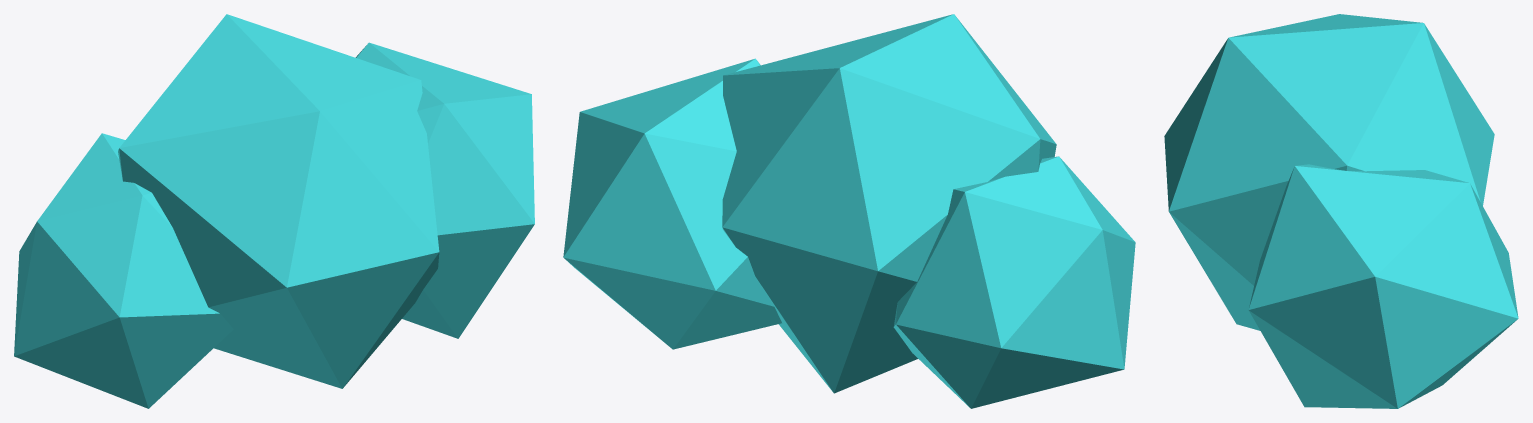
Rendered from bush.glb.
The picture shows the model from 3 angles, left to right: view 1: azimuth 30°, elevation 25°; view 2: azimuth 150°, elevation 25°; view 3: azimuth 270°, elevation 25°; orthographic projection. The views are drawn at different scales.
Visible parts, largest first — view 1: Bush; view 2: Bush; view 3: Bush.
Boxes of the visible parts, <box> form: Bush: <box>14,14,534,408</box>; Bush: <box>563,14,1135,408</box>; Bush: <box>1164,14,1518,408</box>.
Size of the model in its own units: 1.71 by 1.01 by 1.05.
